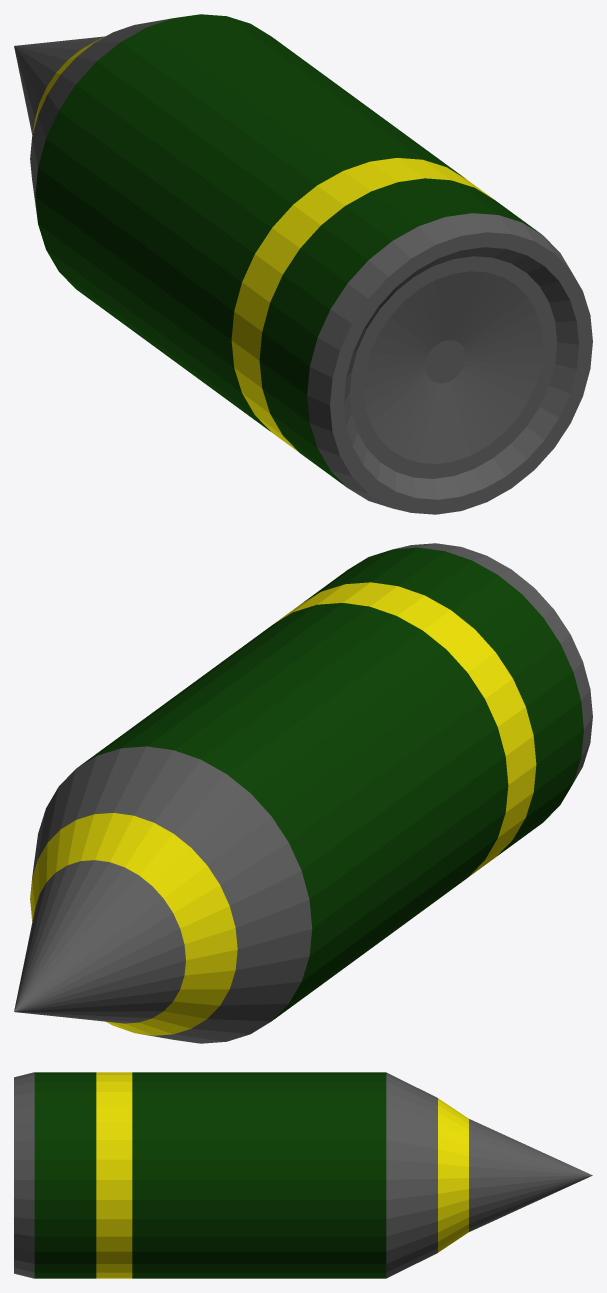
Rendered from tonk sholl.fbx.
3 views of the same model, one above another, from view 1: azimuth 30°, elevation 25°; view 2: azimuth 150°, elevation 25°; view 3: azimuth 270°, elevation 25° (orthographic). The views are drawn at different scales.
Visible parts, largest first — view 1: Cylinder; view 2: Cylinder; view 3: Cylinder.
Boxes of the visible parts, x1,y1,x2,y2 form: Cylinder: (14,14,592,514); Cylinder: (14,543,592,1043); Cylinder: (14,1072,592,1278).
Bounding box in the file's own units: 70 × 70 × 196.
